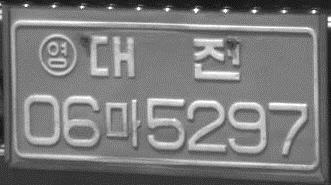0: (23, 91, 60, 146)
2: (186, 98, 228, 154)
5: (145, 96, 186, 152)
6: (60, 93, 100, 148)
7: (265, 100, 309, 156)
9: (227, 99, 268, 155)
대전_D: (88, 31, 241, 83)
마: (102, 98, 142, 148)
영: (38, 33, 77, 77)
